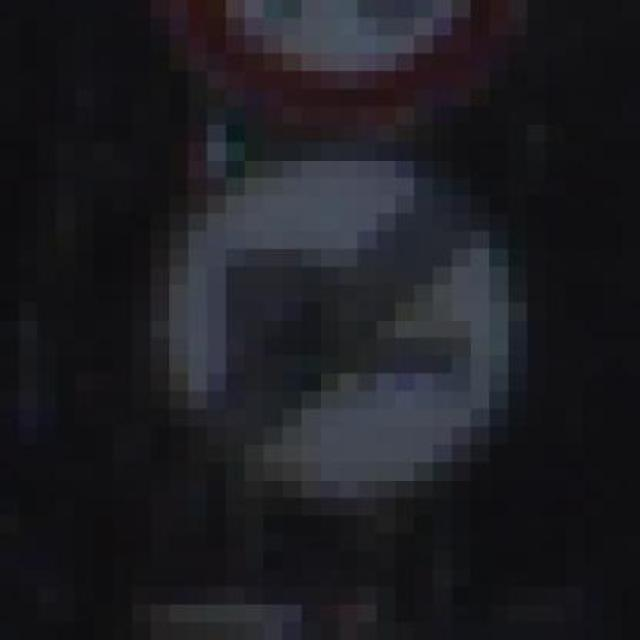Overtaking by trucks is prohibited: (56, 124, 602, 534)
